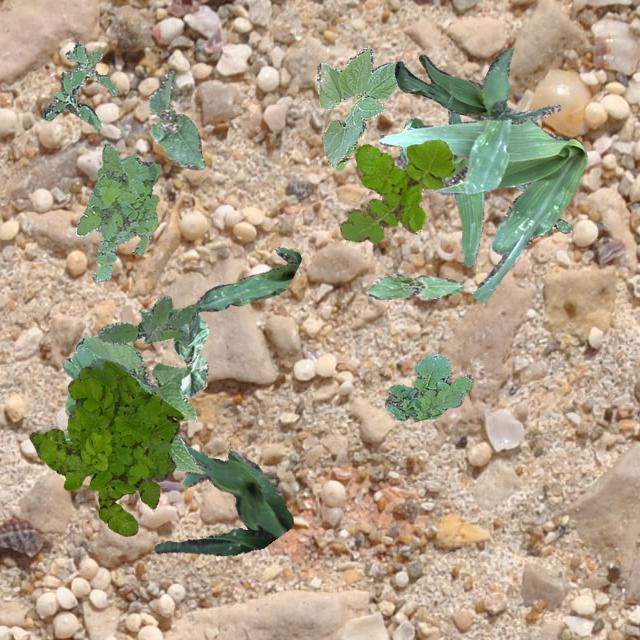crop: (378, 118, 586, 302), (396, 107, 524, 266), (61, 333, 202, 472), (152, 444, 292, 554), (393, 48, 560, 120), (316, 46, 396, 170), (193, 247, 300, 310), (148, 70, 204, 168), (172, 314, 208, 398), (366, 272, 464, 298)
weed: (29, 360, 182, 536), (339, 138, 454, 242), (74, 142, 160, 280), (42, 40, 118, 128), (383, 352, 472, 420), (96, 294, 200, 344), (544, 218, 570, 235)
